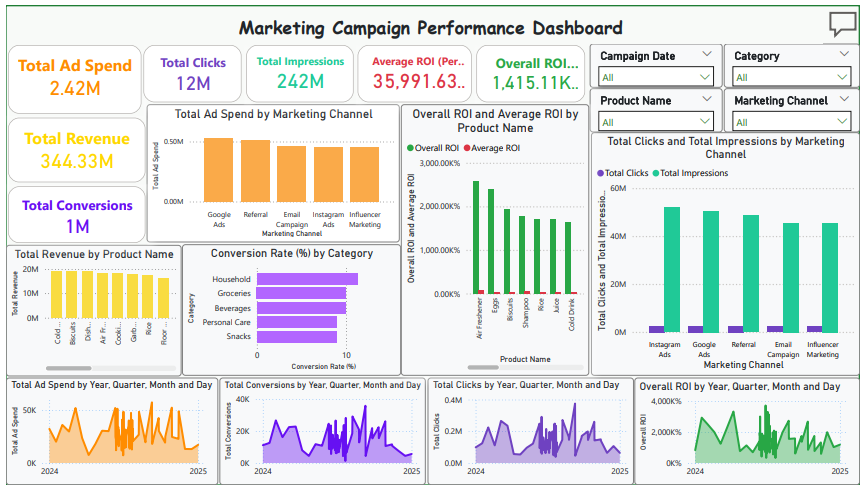

The page's visual inventory and layout, read from the dashboard file:
{"tool":"powerbi","page":{"name":"Page 2","canvas":[1280,720],"ordinal":0},"visuals":[{"type":"shape","box":[0,1,1279,719],"z":0},{"type":"cardVisual","fields":{"Data":["PBI_Marketing_Data.Total Ad Spend"]},"box":[0,56.8,206.1,109],"z":1000},{"type":"slicer","fields":{"Values":["PBI_Marketing_Data.Campaign Date"]},"box":[875.4,58.3,198.7,65.7],"z":2000},{"type":"clusteredColumnChart","fields":{"Y":["PBI_Marketing_Data.Total Ad Spend"],"Category":["PBI_Marketing_Data.Marketing Channel"]},"box":[210.6,149.4,379.4,206.1],"z":3000},{"type":"barChart","fields":{"Category":["PBI_Marketing_Data.Category"],"Y":["PBI_Marketing_Data.Conversion Rate (%)"]},"box":[264.4,358.5,327.1,197.2],"z":4000},{"type":"columnChart","fields":{"Category":["PBI_Marketing_Data.Product Name"],"Y":["PBI_Marketing_Data.Total Revenue"]},"box":[0,360,262.9,197.2],"z":5000},{"type":"lineChart","fields":{"Category":["PBI_Marketing_Data.Campaign Date.Variation.Date Hierarchy.Year","PBI_Marketing_Data.Campaign Date.Variation.Date Hierarchy.Quarter","PBI_Marketing_Data.Campaign Date.Variation.Date Hierarchy.Month","PBI_Marketing_Data.Campaign Date.Variation.Date Hierarchy.Day"],"Y":["PBI_Marketing_Data.Total Ad Spend"]},"box":[0,558.7,318.2,161.3],"z":6000},{"type":"lineChart","fields":{"Category":["PBI_Marketing_Data.Campaign Date.Variation.Date Hierarchy.Year","PBI_Marketing_Data.Campaign Date.Variation.Date Hierarchy.Quarter","PBI_Marketing_Data.Campaign Date.Variation.Date Hierarchy.Month","PBI_Marketing_Data.Campaign Date.Variation.Date Hierarchy.Day"],"Y":["PBI_Marketing_Data.Overall ROI"]},"box":[942.4,558.7,337.6,161.3],"z":7000},{"type":"lineChart","fields":{"Category":["PBI_Marketing_Data.Campaign Date.Variation.Date Hierarchy.Year","PBI_Marketing_Data.Campaign Date.Variation.Date Hierarchy.Quarter","PBI_Marketing_Data.Campaign Date.Variation.Date Hierarchy.Month","PBI_Marketing_Data.Campaign Date.Variation.Date Hierarchy.Day"],"Y":["PBI_Marketing_Data.Total Conversions"]},"box":[319.7,558.7,309.2,161.3],"z":8000},{"type":"lineChart","fields":{"Category":["PBI_Marketing_Data.Campaign Date.Variation.Date Hierarchy.Year","PBI_Marketing_Data.Campaign Date.Variation.Date Hierarchy.Quarter","PBI_Marketing_Data.Campaign Date.Variation.Date Hierarchy.Month","PBI_Marketing_Data.Campaign Date.Variation.Date Hierarchy.Day"],"Y":["PBI_Marketing_Data.Total Clicks"]},"box":[631.9,558.7,309.2,161.3],"z":9000},{"type":"cardVisual","fields":{"Data":["PBI_Marketing_Data.Total Clicks"]},"box":[203.2,56.8,153.9,92.6],"z":10000},{"type":"cardVisual","fields":{"Data":["PBI_Marketing_Data.Total Revenue"]},"box":[0,165.8,212.1,103.1],"z":11000},{"type":"cardVisual","fields":{"Data":["PBI_Marketing_Data.Total Conversions"]},"box":[0,268.9,212.1,91.1],"z":12000},{"type":"cardVisual","fields":{"Data":["PBI_Marketing_Data.Total Impressions"]},"box":[357,56.8,167.3,92.6],"z":13000},{"type":"cardVisual","fields":{"Data":["PBI_Marketing_Data.Average ROI"]},"box":[524.3,56.8,177.8,92.6],"z":14000},{"type":"slicer","fields":{"Values":["PBI_Marketing_Data.Category"]},"box":[1075.5,58.3,204.6,65.7],"z":15000},{"type":"slicer","fields":{"Values":["PBI_Marketing_Data.Product Name"]},"box":[875.4,125.5,198.7,65.7],"z":16000},{"type":"slicer","fields":{"Values":["PBI_Marketing_Data.Marketing Channel"]},"box":[1075.5,125.5,204.6,65.7],"z":17000},{"type":"cardVisual","fields":{"Data":["PBI_Marketing_Data.Overall ROI"]},"box":[702.1,56.8,174.8,92.6],"z":18000},{"type":"clusteredColumnChart","fields":{"Category":["PBI_Marketing_Data.Marketing Channel"],"Y":["PBI_Marketing_Data.Total Clicks","PBI_Marketing_Data.Total Impressions"]},"box":[876.8,191.2,403.3,364.5],"z":19000},{"type":"clusteredColumnChart","fields":{"Category":["PBI_Marketing_Data.Product Name"],"Y":["PBI_Marketing_Data.Overall ROI","PBI_Marketing_Data.Average ROI"]},"box":[591.5,149.4,282.3,406.3],"z":20000},{"type":"textbox","box":[49,9,1176,49],"z":21000},{"type":"actionButton","box":[1229.4,1.5,50.8,56.8],"z":22000}]}

Visuals, with their boxes in screenshot pixels (x1, y1, x2, y2), scaled from the page's 1280x720 canvas onto the 867x490 screenshot:
shape: bbox=(0, 1, 866, 489)
cardVisual - PBI_Marketing_Data.Total Ad Spend: bbox=(0, 39, 140, 113)
slicer - PBI_Marketing_Data.Campaign Date: bbox=(593, 40, 728, 84)
clusteredColumnChart - PBI_Marketing_Data.Total Ad Spend x PBI_Marketing_Data.Marketing Channel: bbox=(143, 102, 400, 242)
barChart - PBI_Marketing_Data.Category x PBI_Marketing_Data.Conversion Rate (%): bbox=(179, 244, 401, 378)
columnChart - PBI_Marketing_Data.Product Name x PBI_Marketing_Data.Total Revenue: bbox=(0, 245, 178, 379)
lineChart - PBI_Marketing_Data.Campaign Date.Variation.Date Hierarchy.Year x PBI_Marketing_Data.Campaign Date.Variation.Date Hierarchy.Quarter: bbox=(0, 380, 216, 489)
lineChart - PBI_Marketing_Data.Campaign Date.Variation.Date Hierarchy.Year x PBI_Marketing_Data.Campaign Date.Variation.Date Hierarchy.Quarter: bbox=(638, 380, 866, 489)
lineChart - PBI_Marketing_Data.Campaign Date.Variation.Date Hierarchy.Year x PBI_Marketing_Data.Campaign Date.Variation.Date Hierarchy.Quarter: bbox=(217, 380, 426, 489)
lineChart - PBI_Marketing_Data.Campaign Date.Variation.Date Hierarchy.Year x PBI_Marketing_Data.Campaign Date.Variation.Date Hierarchy.Quarter: bbox=(428, 380, 637, 489)
cardVisual - PBI_Marketing_Data.Total Clicks: bbox=(138, 39, 242, 102)
cardVisual - PBI_Marketing_Data.Total Revenue: bbox=(0, 113, 144, 183)
cardVisual - PBI_Marketing_Data.Total Conversions: bbox=(0, 183, 144, 245)
cardVisual - PBI_Marketing_Data.Total Impressions: bbox=(242, 39, 355, 102)
cardVisual - PBI_Marketing_Data.Average ROI: bbox=(355, 39, 476, 102)
slicer - PBI_Marketing_Data.Category: bbox=(728, 40, 866, 84)
slicer - PBI_Marketing_Data.Product Name: bbox=(593, 85, 728, 130)
slicer - PBI_Marketing_Data.Marketing Channel: bbox=(728, 85, 866, 130)
cardVisual - PBI_Marketing_Data.Overall ROI: bbox=(476, 39, 594, 102)
clusteredColumnChart - PBI_Marketing_Data.Marketing Channel x PBI_Marketing_Data.Total Clicks: bbox=(594, 130, 866, 378)
clusteredColumnChart - PBI_Marketing_Data.Product Name x PBI_Marketing_Data.Overall ROI: bbox=(401, 102, 592, 378)
textbox: bbox=(33, 6, 830, 39)
actionButton: bbox=(833, 1, 866, 40)
